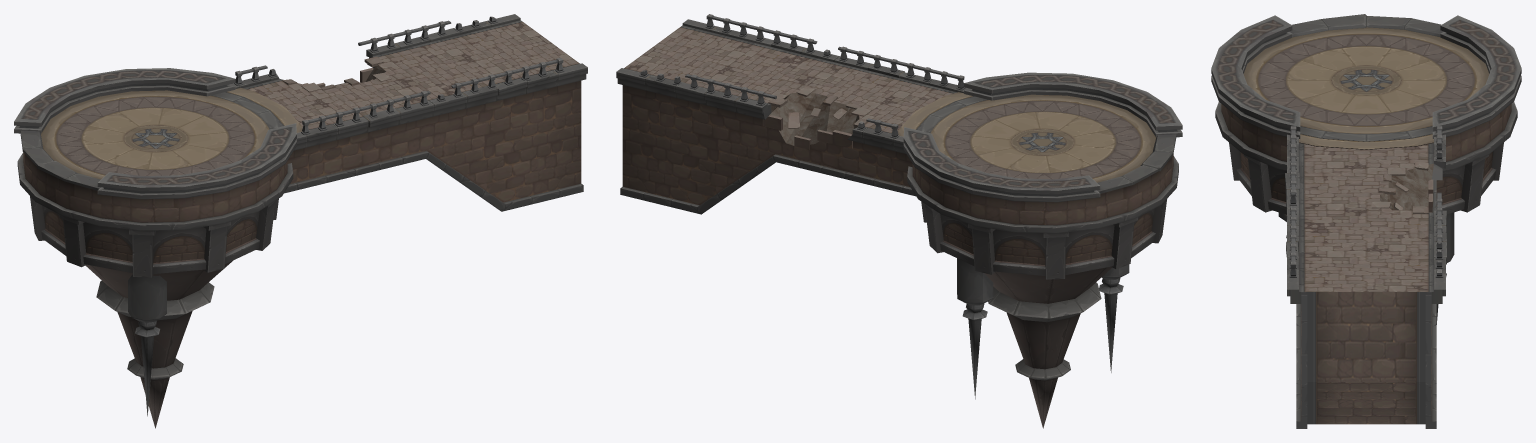
The model's file is sc_dungeon_moshenta_building_003_a.FBX.
3 renders of one model, left to right at view 1: azimuth 30°, elevation 25°; view 2: azimuth 150°, elevation 25°; view 3: azimuth 270°, elevation 25°, orthographic. The views are drawn at different scales.
Parts seen in each view (by area): view 1: sc_dungeon_moshenta_building_003_a; view 2: sc_dungeon_moshenta_building_003_a; view 3: sc_dungeon_moshenta_building_003_a.
Boxes of the visible parts, x1,y1,x2,y2 form: sc_dungeon_moshenta_building_003_a: (14,14,587,428); sc_dungeon_moshenta_building_003_a: (616,14,1182,428); sc_dungeon_moshenta_building_003_a: (1211,14,1521,428).
Bounding box in the file's own units: 53.41 × 25.49 × 30.08.
Materials: 1 (1 with a texture image).
